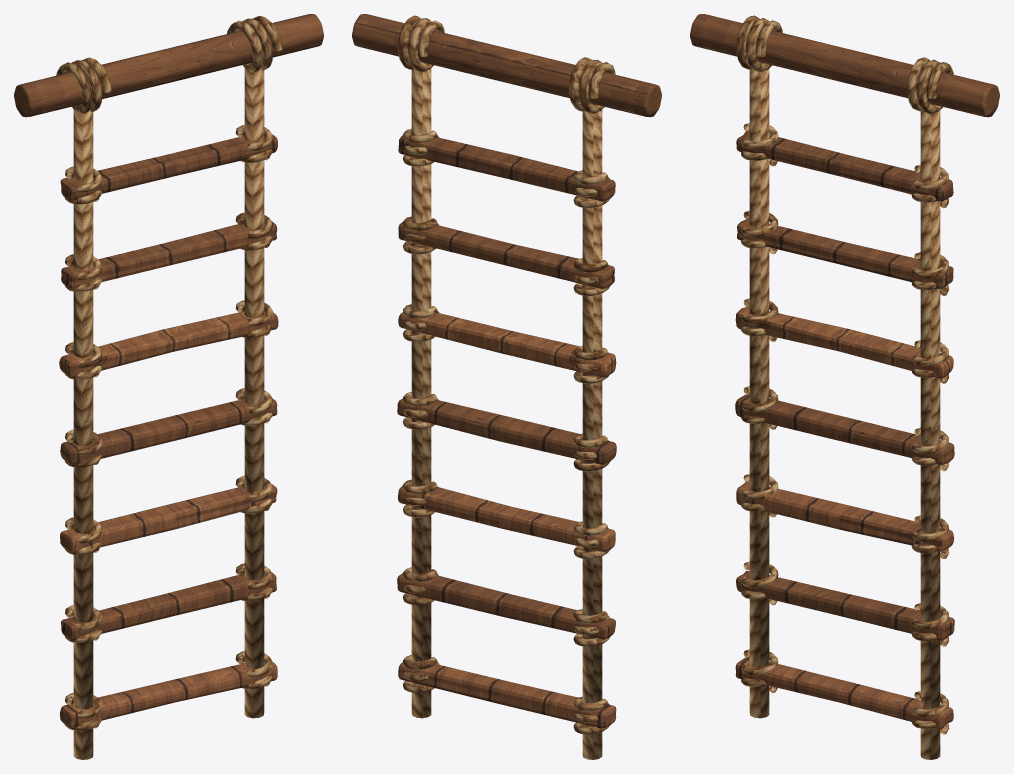
Rendered from rope_ladder.glb.
The picture shows the model from 3 angles, left to right: view 1: azimuth 30°, elevation 25°; view 2: azimuth 150°, elevation 25°; view 3: azimuth 330°, elevation 25°; orthographic projection.
Parts seen in each view (by area): view 1: model; view 2: model; view 3: model.
Boxes of the visible parts, x1,y1,x2,y2 form: model: (14,14,323,759); model: (352,14,661,759); model: (690,14,999,759).
Bounding box in the file's own units: 0.95 × 2.14 × 0.1517.
Materials: 4 (4 with a texture image).
